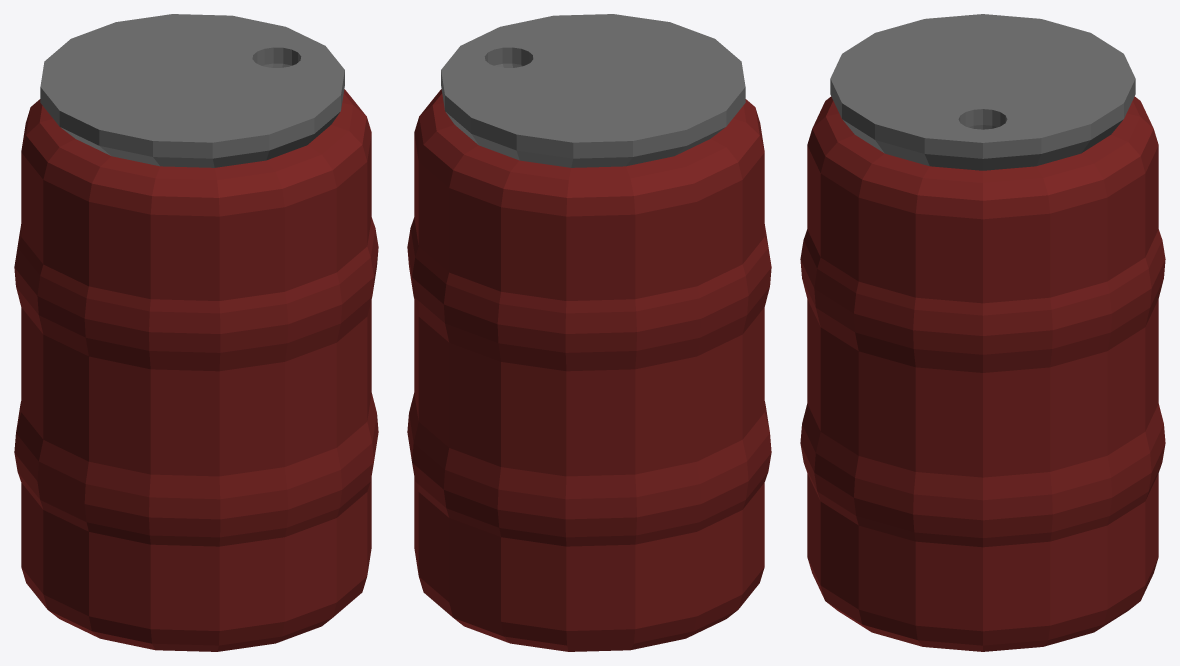
File: SingleKegB.fbx
3 renders of one model, left to right at view 1: azimuth 30°, elevation 25°; view 2: azimuth 150°, elevation 25°; view 3: azimuth 270°, elevation 25°, orthographic.
Visible parts, largest first — view 1: Single_Keg; view 2: Single_Keg; view 3: Single_Keg.
Part boxes in pixels (bbox=[...]): Single_Keg: bbox=[14, 14, 378, 651]; Single_Keg: bbox=[407, 14, 771, 651]; Single_Keg: bbox=[800, 14, 1165, 651].
Bounding box in the file's own units: 208 × 320 × 208.
